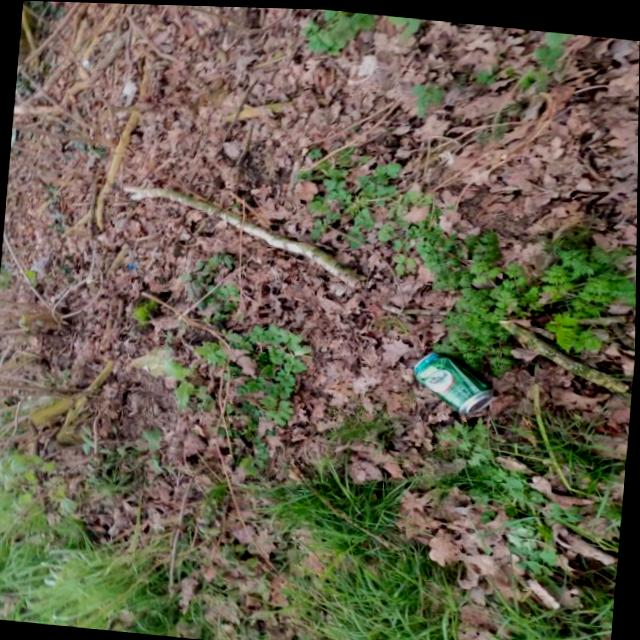Can-Metal: (385, 337, 499, 423)
